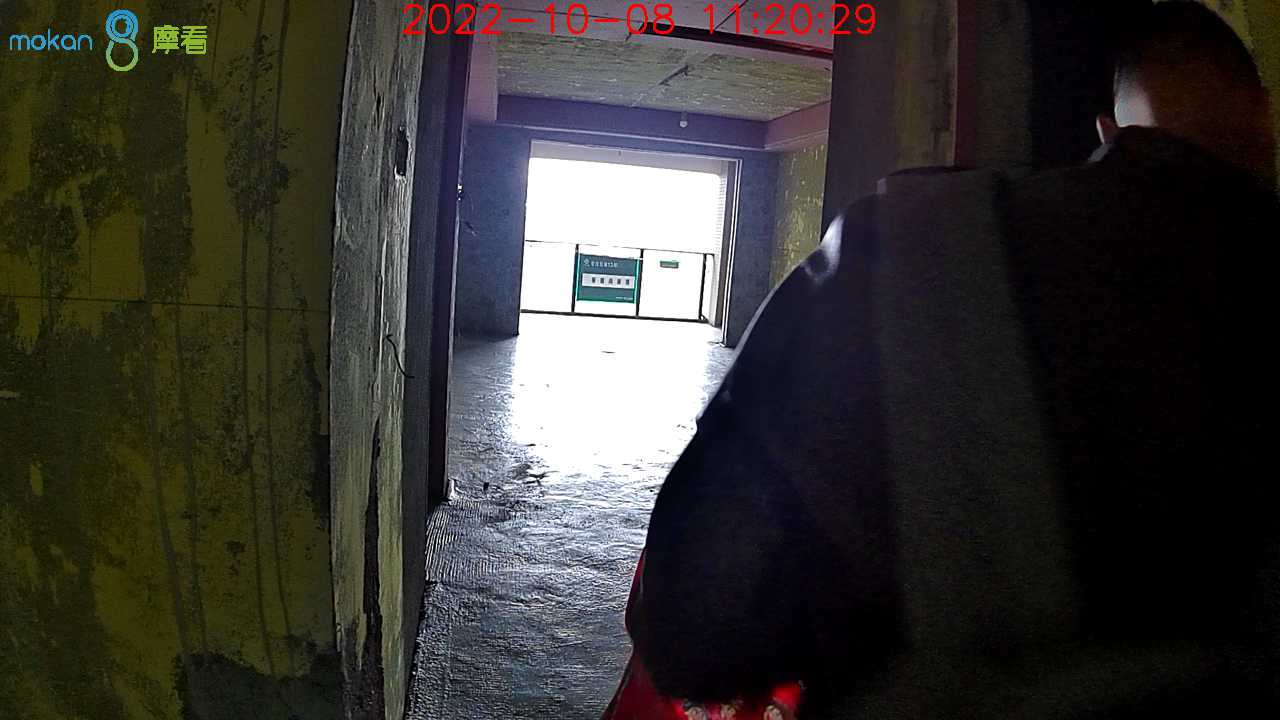people: (629, 6, 1280, 717)
window: (526, 145, 718, 324)
